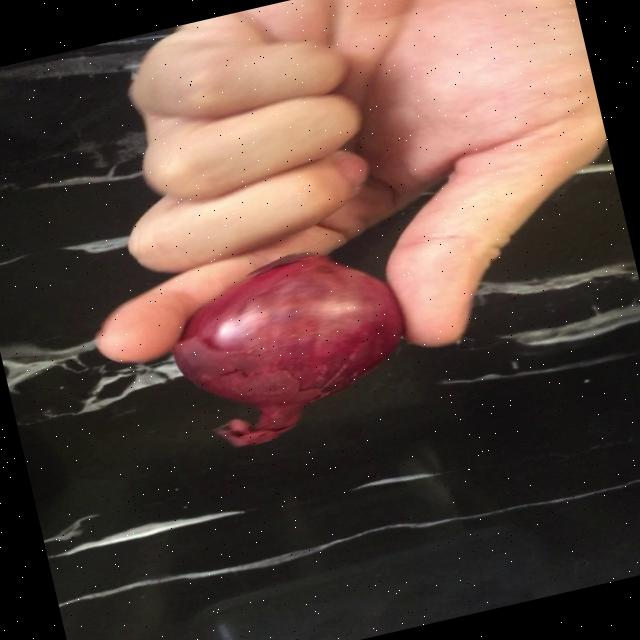Onion: (172, 254, 403, 445)
